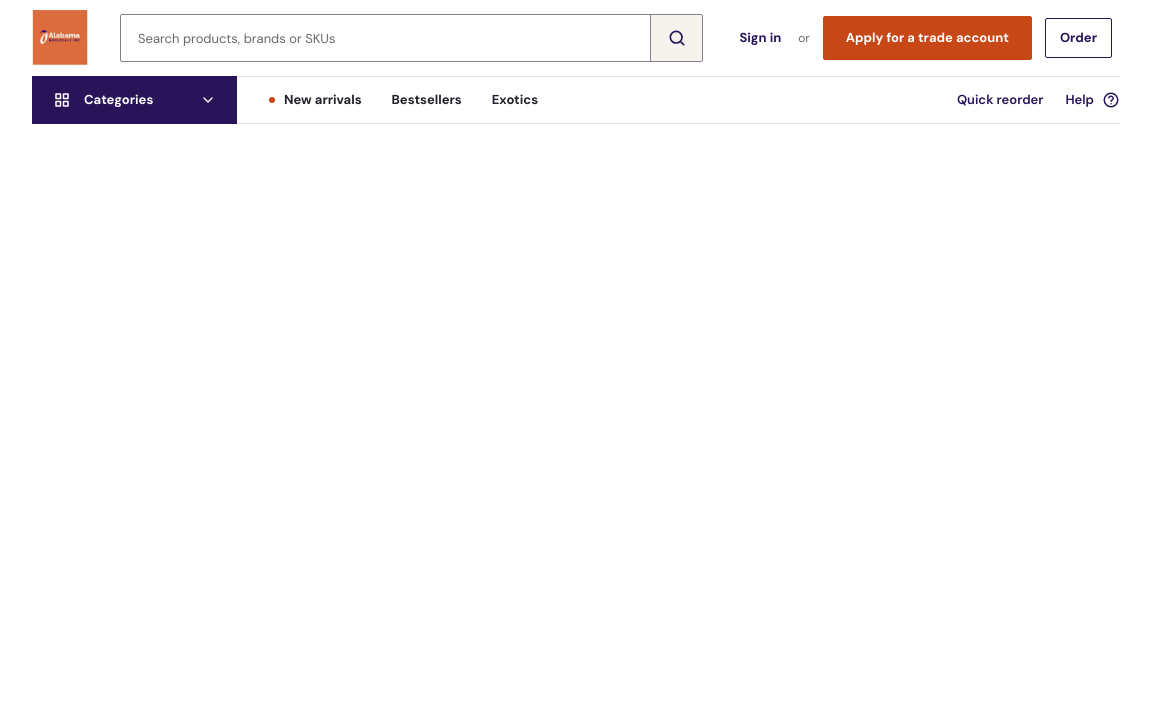
Test: Categories menu (AW-165) › closes when Tab moves focus past its last link, and stays open while focus is inside
Click the button "Categories" at (134, 100), box [32,76,237,124]
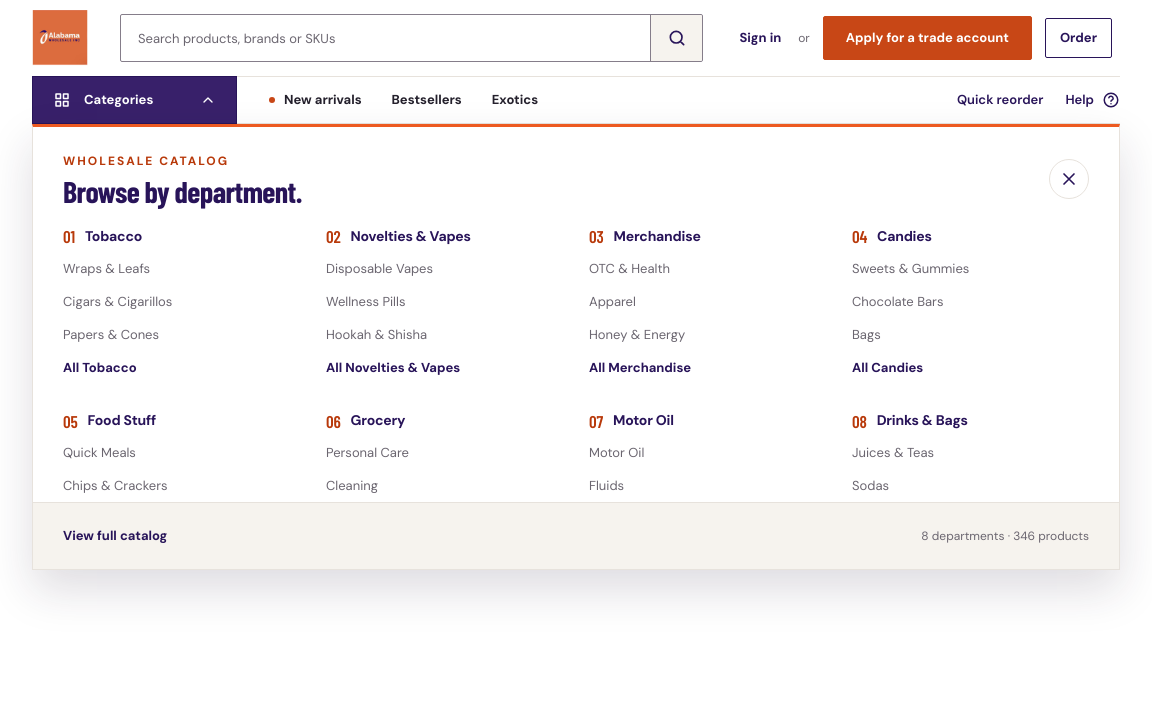
Leave the link "Wraps & Leafs", box [63,260,150,277]
Result: the element with id "aw-mega-menu" is shown at [32,124,1120,570]
// Safari clicking a link: no relatedTarget, the click handles it.
Leave the link "Cigars & Cigarillos", box [63,293,172,310]
Result: the element with id "aw-mega-menu" is shown at [32,124,1120,570]
// Shift+Tab from the first control back onto the toggle.
Leave the button named "Close categories", box [1049,159,1089,199]
Result: the element with id "aw-mega-menu" is shown at [32,124,1120,570]
Leave the link "View full catalog", box [63,527,167,544]
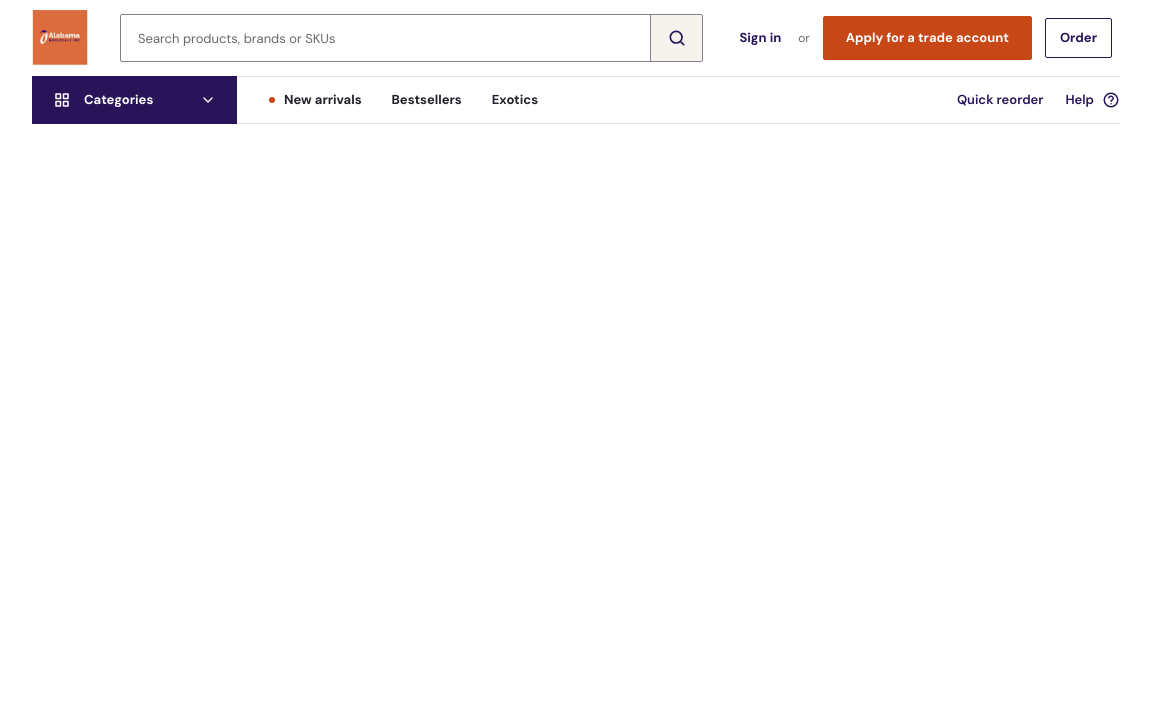
Result: the element with id "aw-mega-menu" is gone
Result: the button "Categories" is collapsed at [32,76,237,124]
